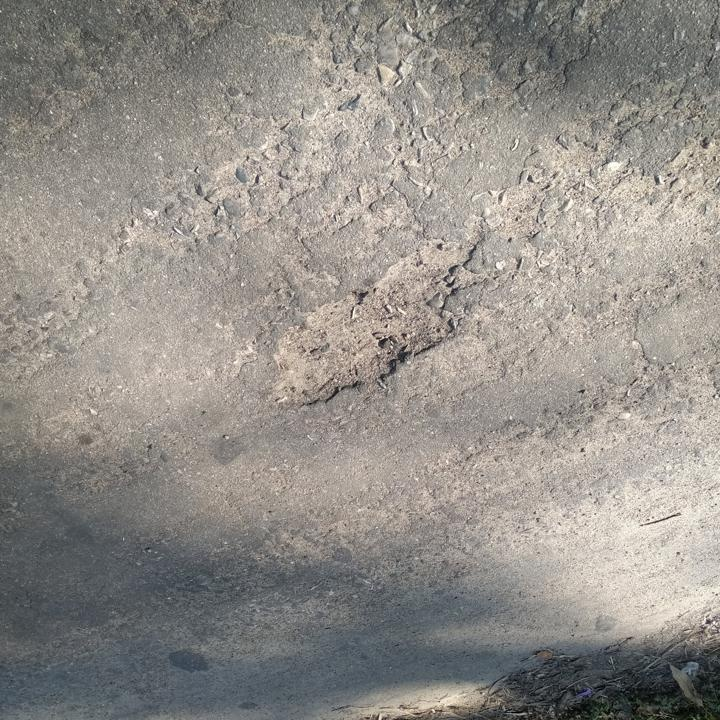pothole: (264, 236, 483, 413)
